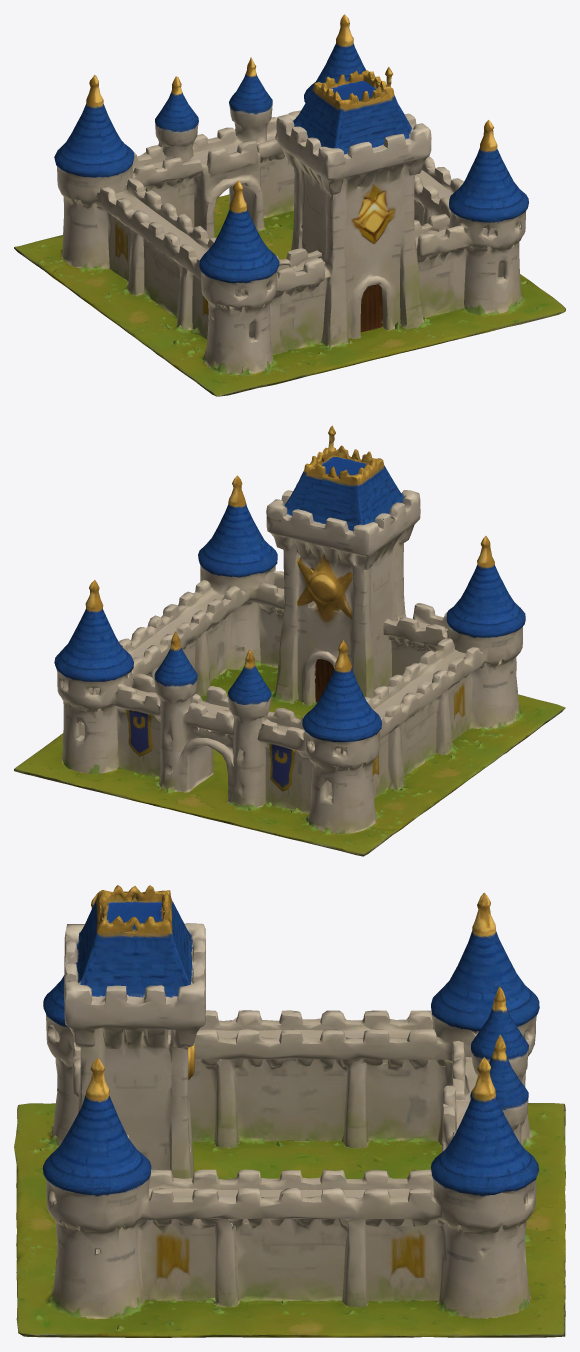
File: fortress_kingdom.glb
3 renders of one model, top to bottom at view 1: azimuth 30°, elevation 25°; view 2: azimuth 150°, elevation 25°; view 3: azimuth 270°, elevation 25°, orthographic. The views are drawn at different scales.
Visible parts, largest first — view 1: world; view 2: world; view 3: world.
Boxes of the visible parts, <box> form: world: <box>14,14,565,396</box>; world: <box>14,425,565,856</box>; world: <box>14,885,565,1337</box>.
Size of the model in its own units: 0.9899 by 0.6937 by 0.9949.
1 material, 1 textured.
